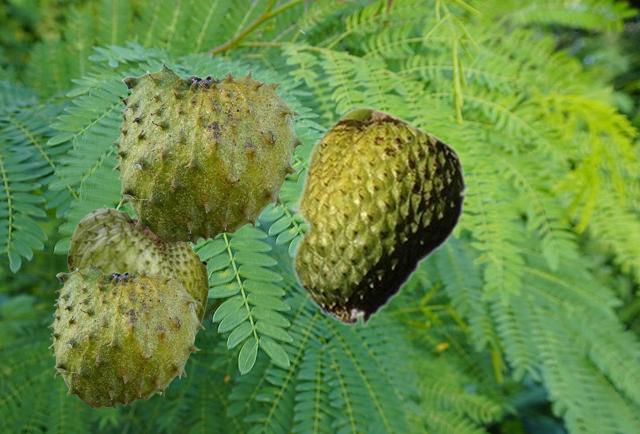guyabano: (289, 105, 467, 328), (111, 61, 304, 245), (47, 260, 204, 409), (67, 204, 208, 334)
